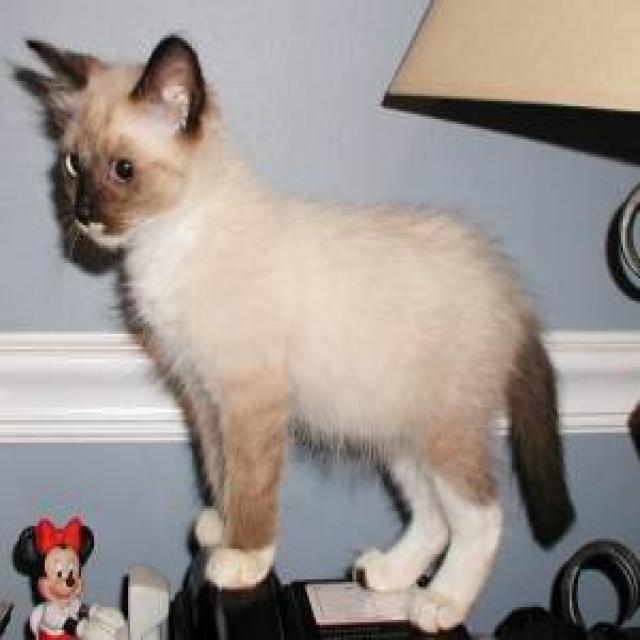Siamese: (23, 28, 230, 258)
